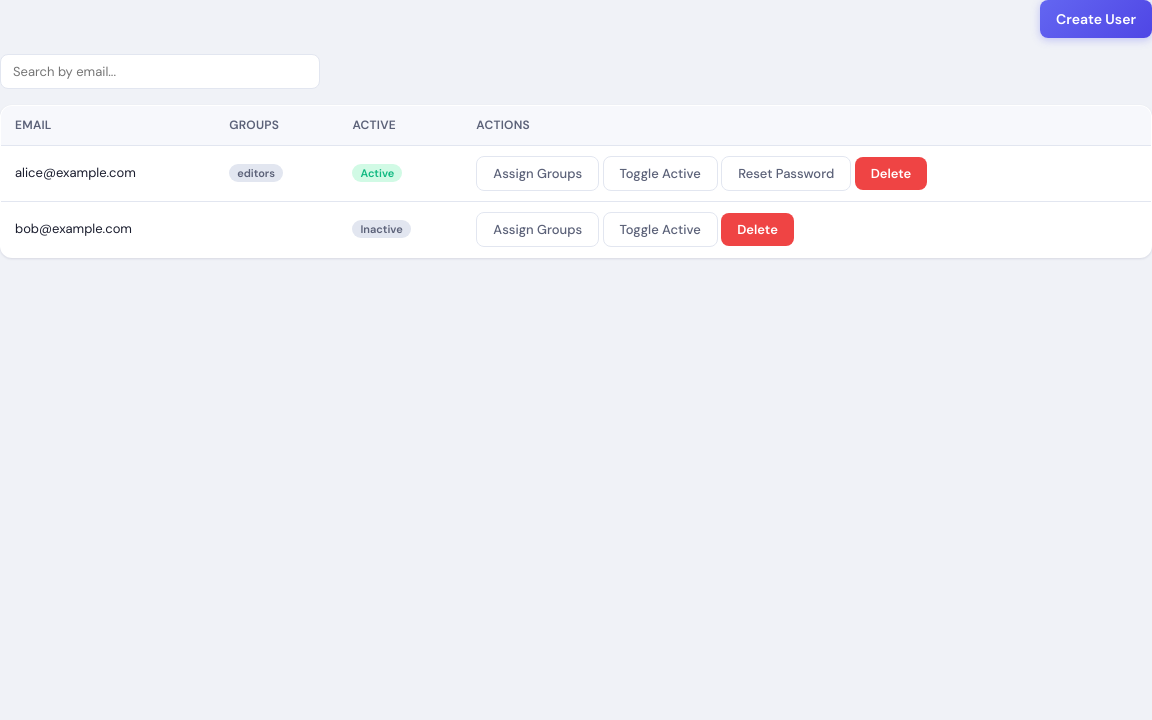
Test: UsersTab › confirm delete removes user from list
Expected: the text "alice@example.com" is shown, [0, 146, 215, 202]
What coordinates should you click on to do the following:
click the button "Delete" in the row of "alice@example.com"
I would click on:
 (891, 174)
Its box is [855, 157, 927, 190].
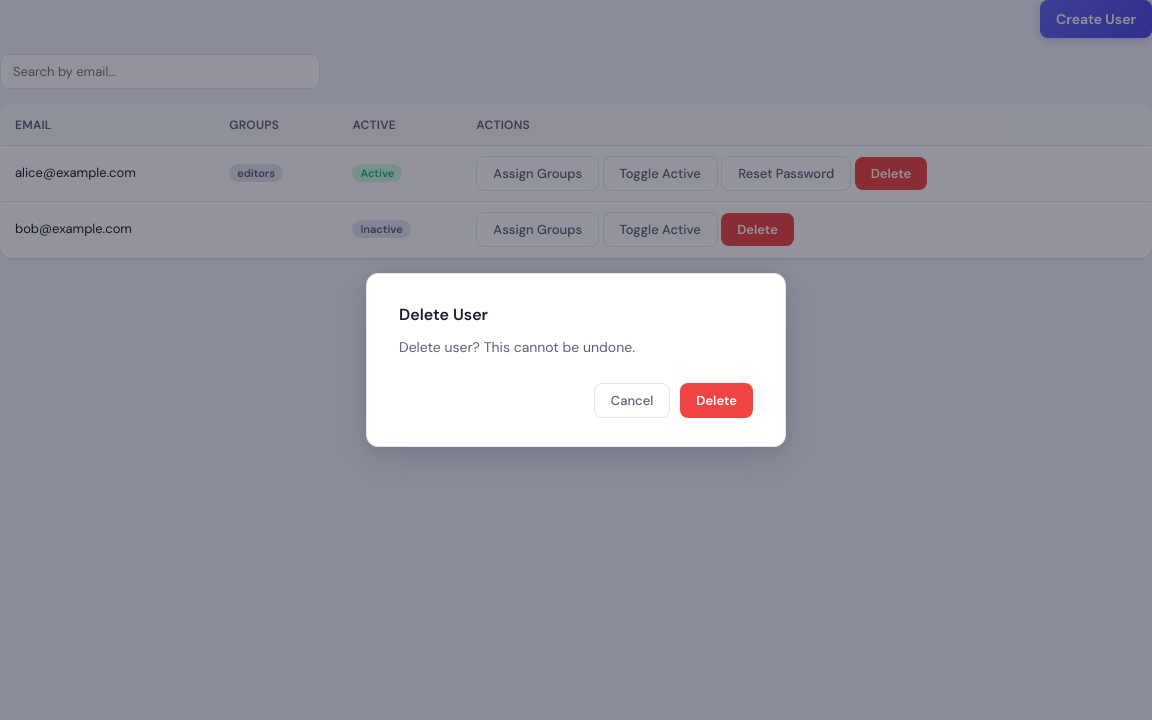
Expected: the element with class "confirm-dialog" is shown, [366, 273, 786, 447]
What coordinates should you click on to do the following:
click the button with class "btn-danger" showing "Delete"
I would click on:
 (717, 401)
Its box is [680, 383, 753, 418].
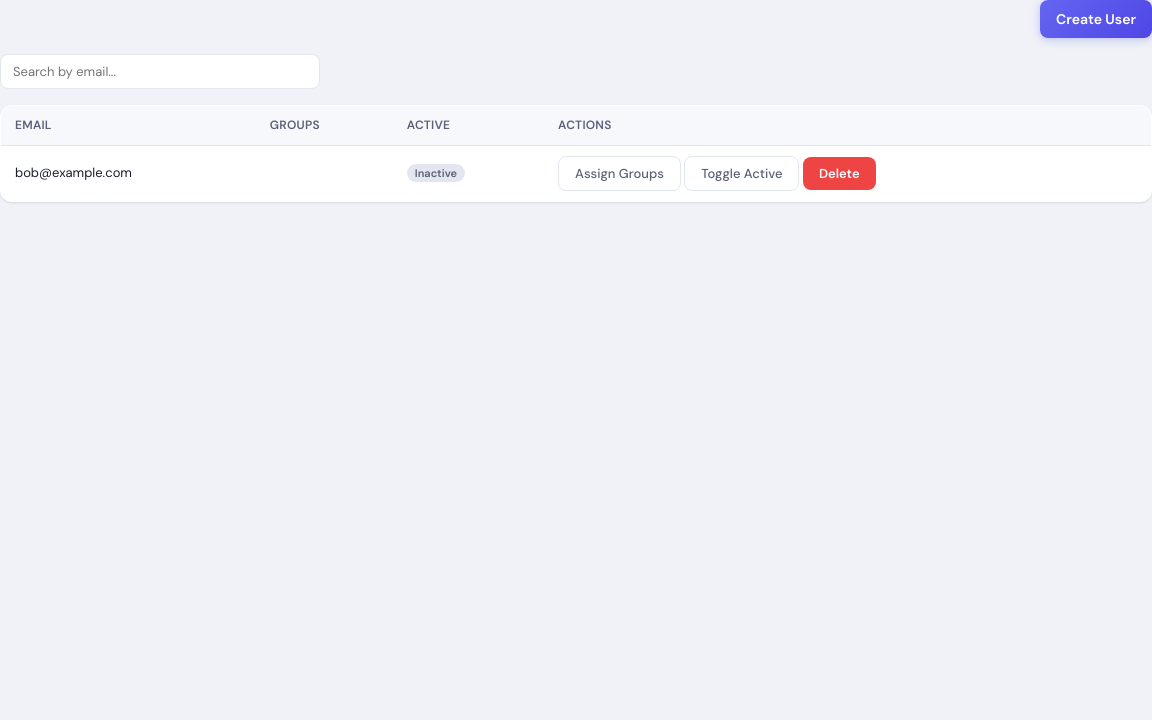
Expected: the text "bob@example.com" is shown, [0, 146, 256, 202]
Expected: the text "alice@example.com" is gone
